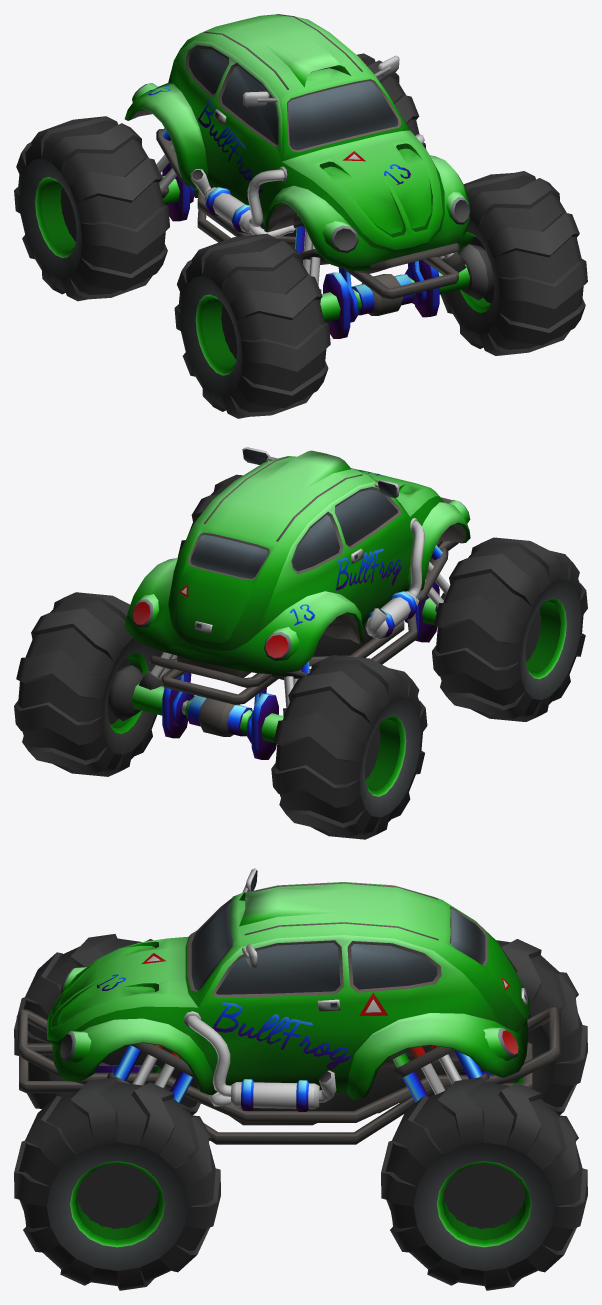
Rendered from Monster_Truck_10A.fbx.
3 views of the same model, one above another, from view 1: azimuth 30°, elevation 25°; view 2: azimuth 150°, elevation 25°; view 3: azimuth 270°, elevation 25° (orthographic). The views are drawn at different scales.
Visible parts, largest first — view 1: Monster_Truck_10A_Body, Wheel_10A_F.R, Wheel_10A_R.R, Wheel_10A_F.L, Monster_Truck_10A_Suspension_F.L, Monster_Truck_10A_Suspension_F.R, Monster_Truck_10A_Suspension_R.R, Wheel_10A_R.L, Monster_Truck_10A_Livery; view 2: Monster_Truck_10A_Body, Wheel_10A_R.R, Wheel_10A_F.R, Wheel_10A_R.L, Monster_Truck_10A_Suspension_R.L, Monster_Truck_10A_Suspension_R.R, Monster_Truck_10A_Suspension_F.R, Monster_Truck_10A_Livery, Wheel_10A_F.L; view 3: Monster_Truck_10A_Body, Wheel_10A_R.L, Wheel_10A_F.L, Wheel_10A_R.R, Wheel_10A_F.R, Monster_Truck_10A_Livery, Monster_Truck_10A_Suspension_R.L, Monster_Truck_10A_Suspension_F.L.
Boxes of the visible parts, box(x1,y1,x2,y2) form: Monster_Truck_10A_Body: box(124, 14, 470, 322); Wheel_10A_F.R: box(174, 233, 330, 418); Wheel_10A_R.R: box(14, 116, 169, 301); Wheel_10A_F.L: box(440, 171, 587, 355); Monster_Truck_10A_Suspension_F.L: box(415, 244, 494, 317); Monster_Truck_10A_Suspension_F.R: box(293, 214, 350, 338); Monster_Truck_10A_Suspension_R.R: box(156, 129, 191, 221); Wheel_10A_R.L: box(357, 53, 426, 149); Monster_Truck_10A_Livery: box(148, 85, 410, 192); Monster_Truck_10A_Body: box(124, 447, 470, 743); Wheel_10A_R.R: box(271, 655, 427, 839); Wheel_10A_F.R: box(432, 537, 587, 721); Wheel_10A_R.L: box(14, 592, 163, 776); Monster_Truck_10A_Suspension_R.L: box(107, 652, 187, 738); Monster_Truck_10A_Suspension_R.R: box(251, 661, 309, 759); Monster_Truck_10A_Suspension_F.R: box(415, 545, 449, 642); Monster_Truck_10A_Livery: box(178, 470, 401, 625); Wheel_10A_F.L: box(177, 474, 242, 557); Monster_Truck_10A_Body: box(16, 868, 560, 1144); Wheel_10A_R.L: box(381, 1077, 587, 1290); Wheel_10A_F.L: box(14, 1077, 220, 1290); Wheel_10A_R.R: box(400, 939, 587, 1115); Wheel_10A_F.R: box(14, 934, 200, 1115); Monster_Truck_10A_Livery: box(97, 953, 509, 1069); Monster_Truck_10A_Suspension_R.L: box(392, 1045, 489, 1102); Monster_Truck_10A_Suspension_F.L: box(106, 1043, 194, 1103).
Size of the model in its own units: 518 by 392 by 665.
